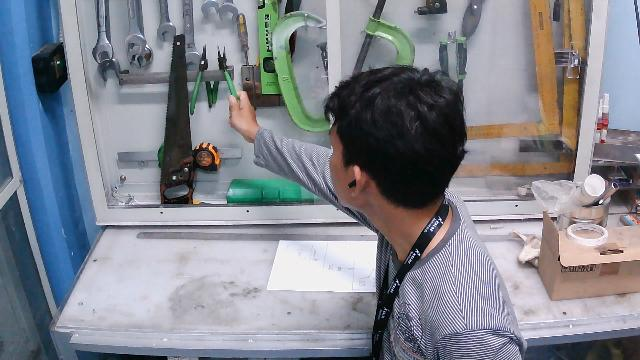tang_cucut_lancip_1: (209, 40, 242, 110)
